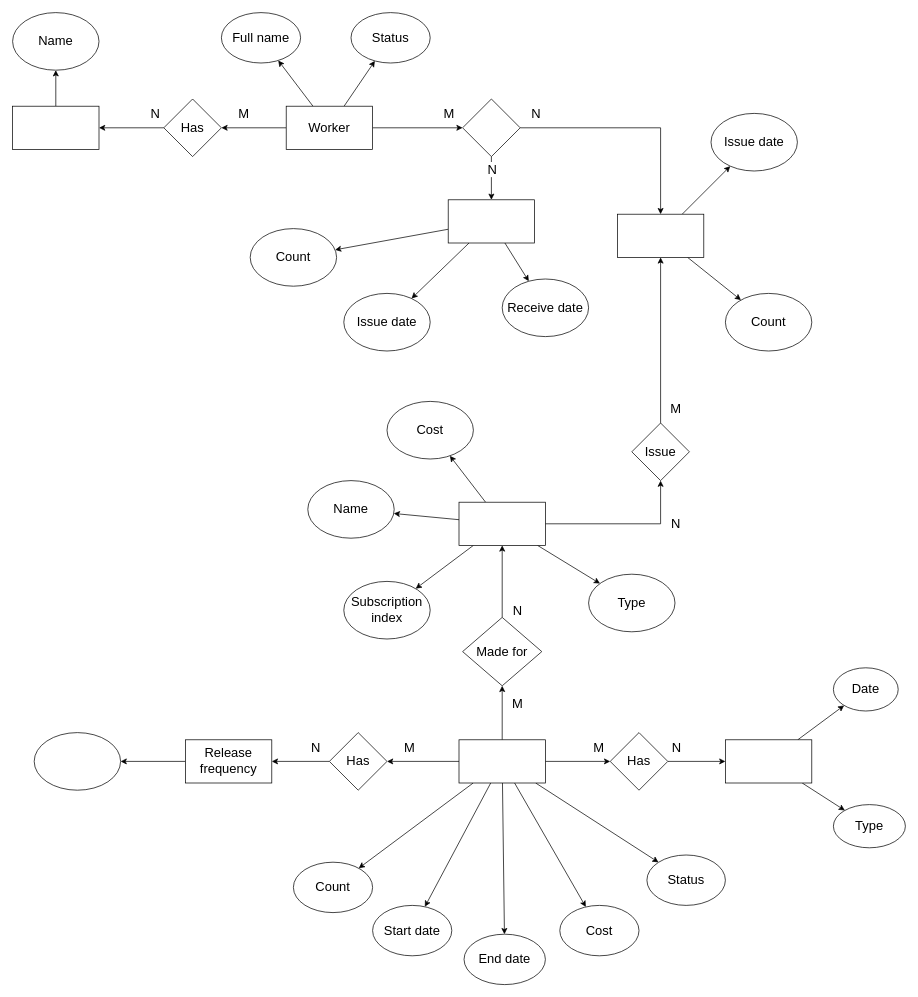
Image size: 918x997. Some labels were removed from this diagram. The centre of each missing label's shape, as x and y in pixels:
"Delivery" goes at point 768,761.
"Edition" goes at point 501,523.
"Interval" goes at point 77,761.
"Issued edition" goes at point 660,235.
"Post" goes at point 55,127.
"Receive" goes at point 491,127.
"Received edition" goes at point 491,221.
"Subscription" goes at point 501,761.
